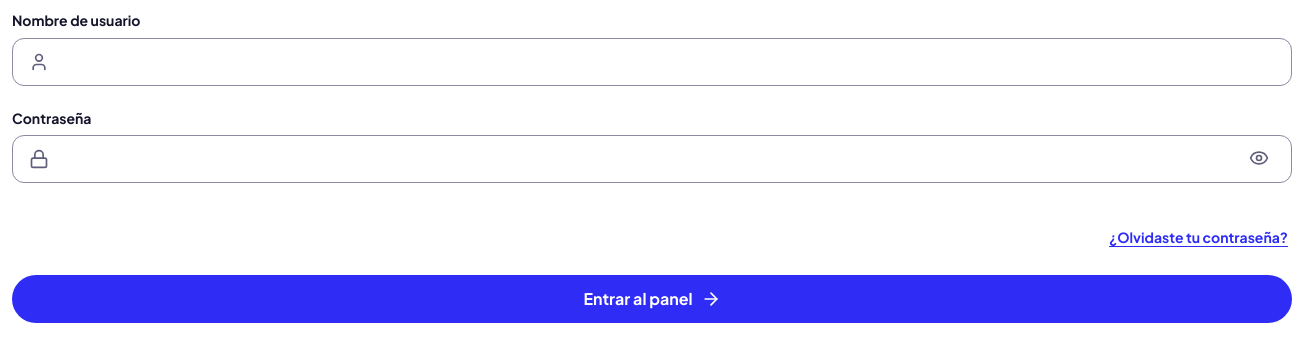
LoginForm: validación › rechaza el usuario «Harold1» sin enviar (CA-014)
This screenshot has width=1304, height=358.
In the field labelled "Nombre de usuario": (666, 62) [57,40,1275,84], type "Harold1"
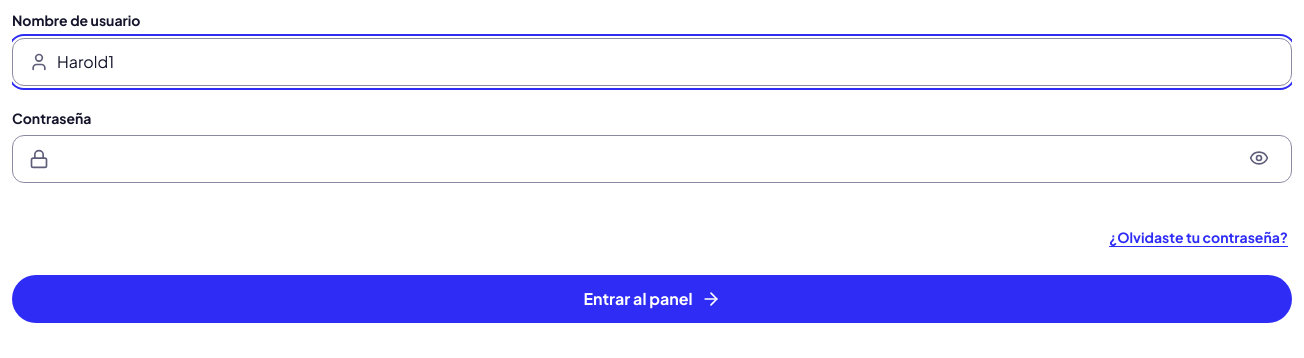
In the password field labelled "Contraseña": (646, 159) [57,137,1235,181], type "contraseña-larga"
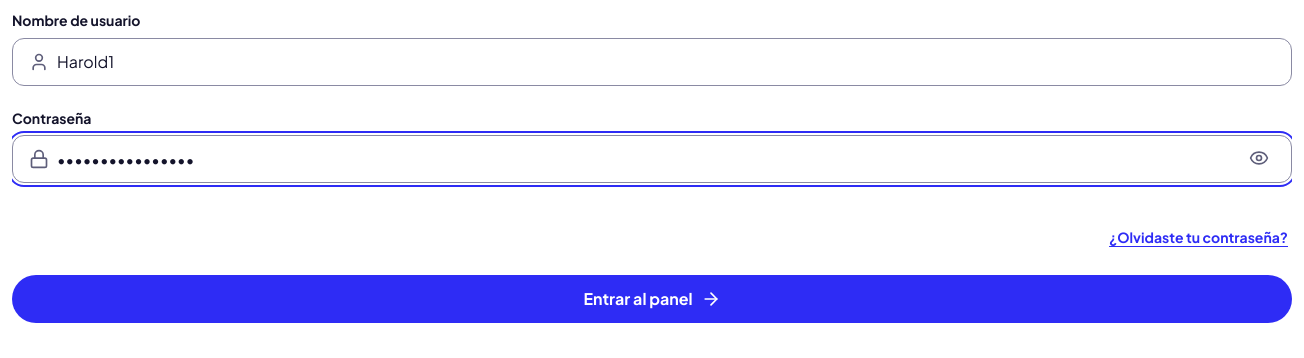
Click the button with test id "login-submit": click(652, 299) [12,275,1292,323]
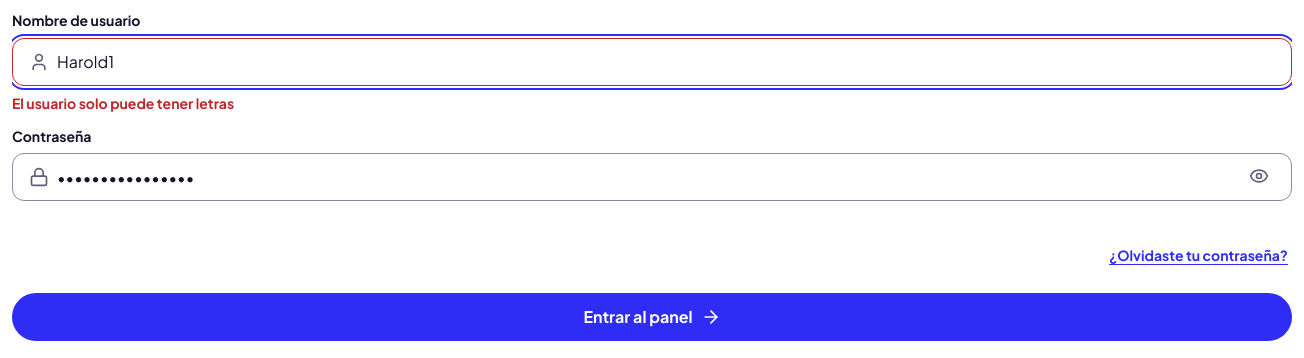
Check: the text with test id "login-username-error" reads "El usuario solo puede tener letras", box [12,94,234,112]
